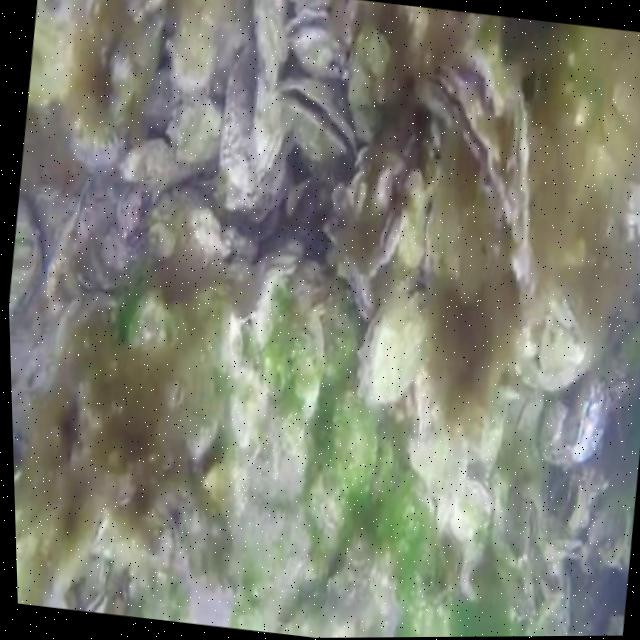Oyster-Closed: (411, 56, 521, 249), (156, 468, 237, 597), (357, 277, 434, 407), (567, 361, 631, 462), (229, 250, 299, 323), (216, 150, 287, 220), (327, 218, 377, 316), (168, 6, 216, 102), (511, 91, 532, 301), (253, 71, 285, 182), (366, 197, 409, 278), (506, 493, 539, 557), (406, 376, 431, 439), (458, 541, 482, 603), (511, 389, 541, 437), (117, 179, 142, 235), (162, 374, 186, 410), (374, 167, 391, 216), (89, 507, 108, 548), (551, 538, 585, 558), (287, 0, 330, 13), (118, 479, 135, 507), (626, 183, 640, 215), (355, 145, 367, 171)
Oyster-Indeterminate: (515, 272, 595, 392), (408, 419, 467, 529), (460, 13, 521, 118), (219, 40, 258, 192), (118, 138, 220, 196), (330, 389, 376, 504), (70, 80, 125, 173), (349, 27, 392, 137), (328, 525, 373, 624), (289, 306, 325, 416), (167, 99, 223, 163), (278, 594, 358, 638), (127, 289, 177, 355), (318, 305, 357, 384), (254, 0, 288, 85), (539, 315, 586, 371), (450, 479, 491, 541), (189, 208, 229, 260), (541, 399, 570, 465), (214, 312, 244, 373), (538, 541, 565, 591)
Oyster-Open: (277, 79, 356, 158), (284, 8, 350, 86), (562, 480, 589, 532), (348, 170, 368, 216), (331, 181, 350, 216), (83, 587, 106, 613)
